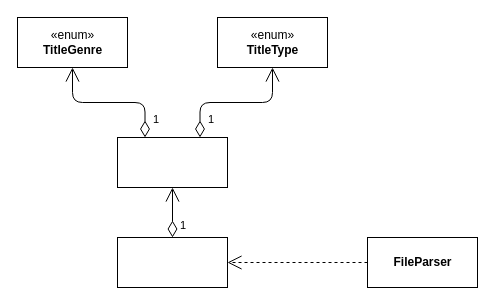
Some shapes in this 495 by 305 pixel diagram are drawn without their labels. The shapes that lost their labels are listed below. From the top down, each one's centre as x and y in pixels, then its label:
the point at 172,162: «struct» TitleID
the point at 172,262: TItle
